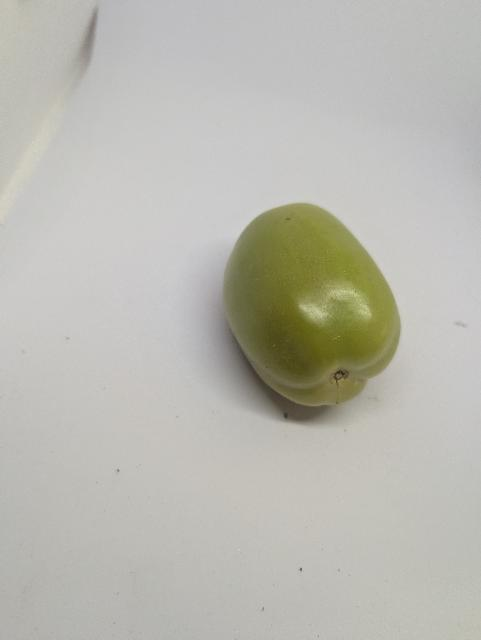green: (221, 201, 407, 408)
